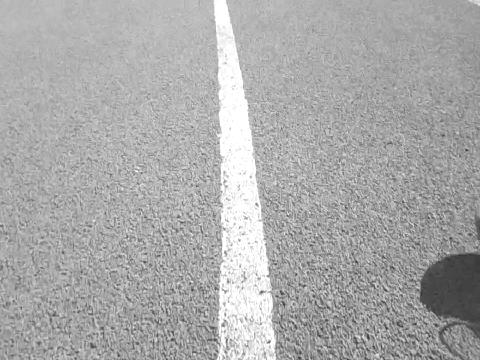Lines: (212, 0, 277, 360)
